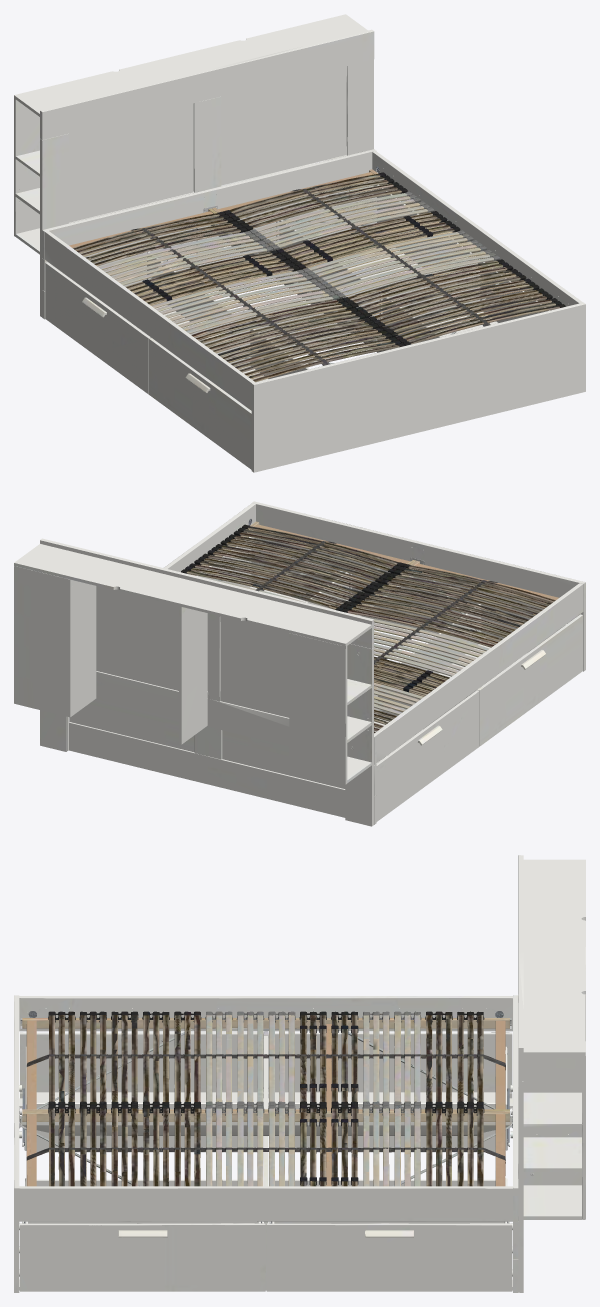
File: brimnes_rama_ozka_z_pojemnikiem_zagowek_59157471.glb
3 renders of one model, top to bottom at view 1: azimuth 30°, elevation 25°; view 2: azimuth 150°, elevation 25°; view 3: azimuth 270°, elevation 25°, orthographic. The views are drawn at different scales.
Visible parts, largest first — view 1: brimnes_rama_ozka_z_pojemnikiem_zagowek_59157471; view 2: brimnes_rama_ozka_z_pojemnikiem_zagowek_59157471; view 3: brimnes_rama_ozka_z_pojemnikiem_zagowek_59157471.
Boxes of the visible parts, <box> form: brimnes_rama_ozka_z_pojemnikiem_zagowek_59157471: <box>14,14,585,472</box>; brimnes_rama_ozka_z_pojemnikiem_zagowek_59157471: <box>14,501,585,826</box>; brimnes_rama_ozka_z_pojemnikiem_zagowek_59157471: <box>14,855,585,1292</box>.
Size of the model in its own units: 1.91 by 1.1 by 2.33.
1 material, 1 textured.
